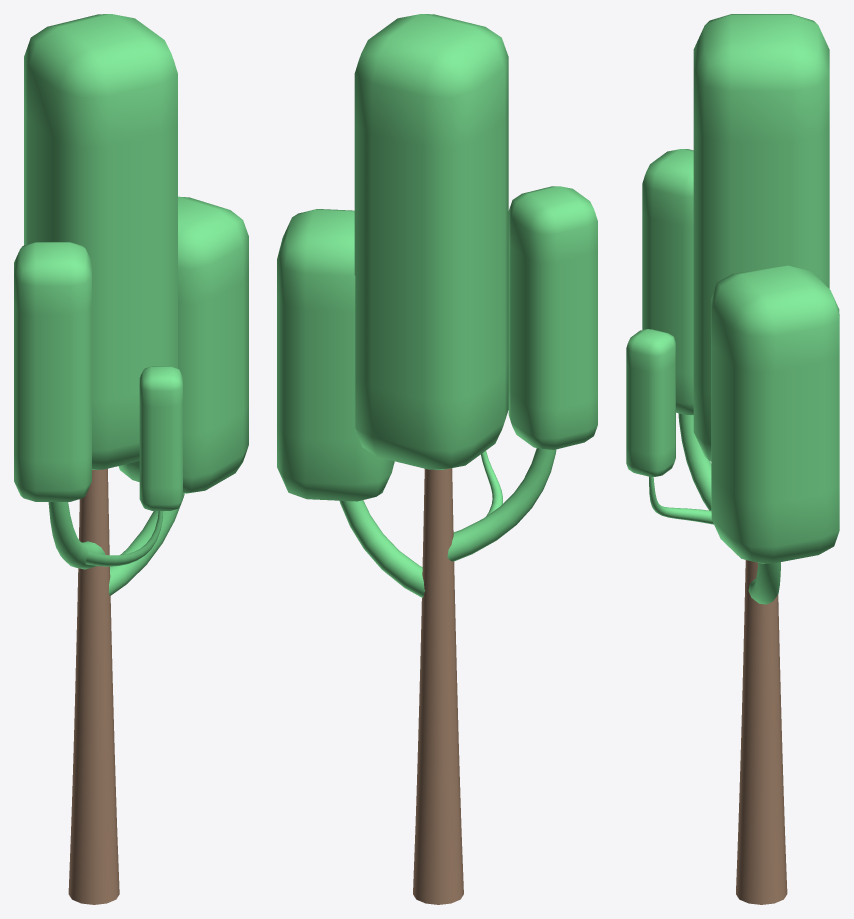
The model's file is LowPoly-Tree-02_Tree_1_instanced.glb.
3 renders of one model, left to right at view 1: azimuth 30°, elevation 25°; view 2: azimuth 150°, elevation 25°; view 3: azimuth 270°, elevation 25°, orthographic.
Visible parts, largest first — view 1: Canopy, Trunk; view 2: Canopy, Trunk; view 3: Canopy, Trunk.
Part boxes in pixels (bbox=[...]): Canopy: bbox=[14, 14, 248, 595]; Trunk: bbox=[68, 468, 119, 904]; Canopy: bbox=[277, 14, 597, 597]; Trunk: bbox=[413, 468, 463, 904]; Canopy: bbox=[626, 14, 839, 604]; Trunk: bbox=[736, 560, 787, 904].
Bounding box in the file's own units: 0.4808 × 1.49 × 0.3313.
